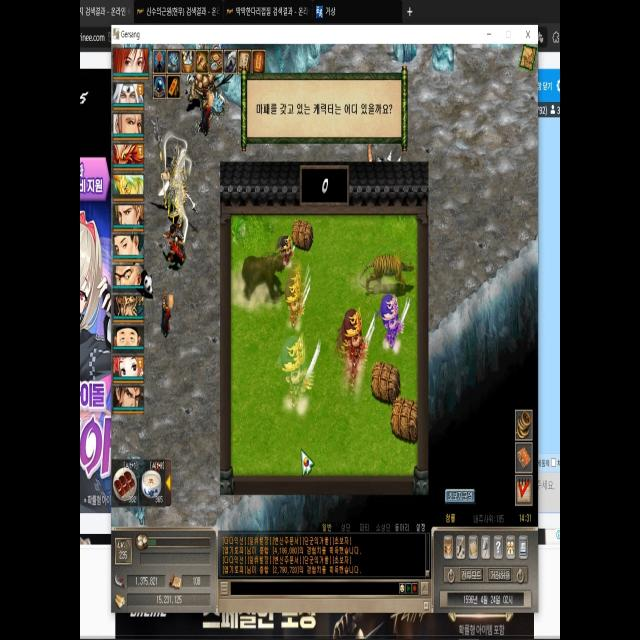character_brown: (276, 332, 321, 416), (334, 306, 375, 396), (376, 296, 412, 354), (285, 261, 310, 331), (276, 232, 296, 269)
